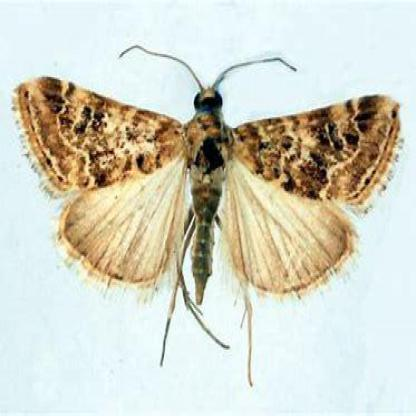Hellula undalis: (8, 34, 411, 395)
